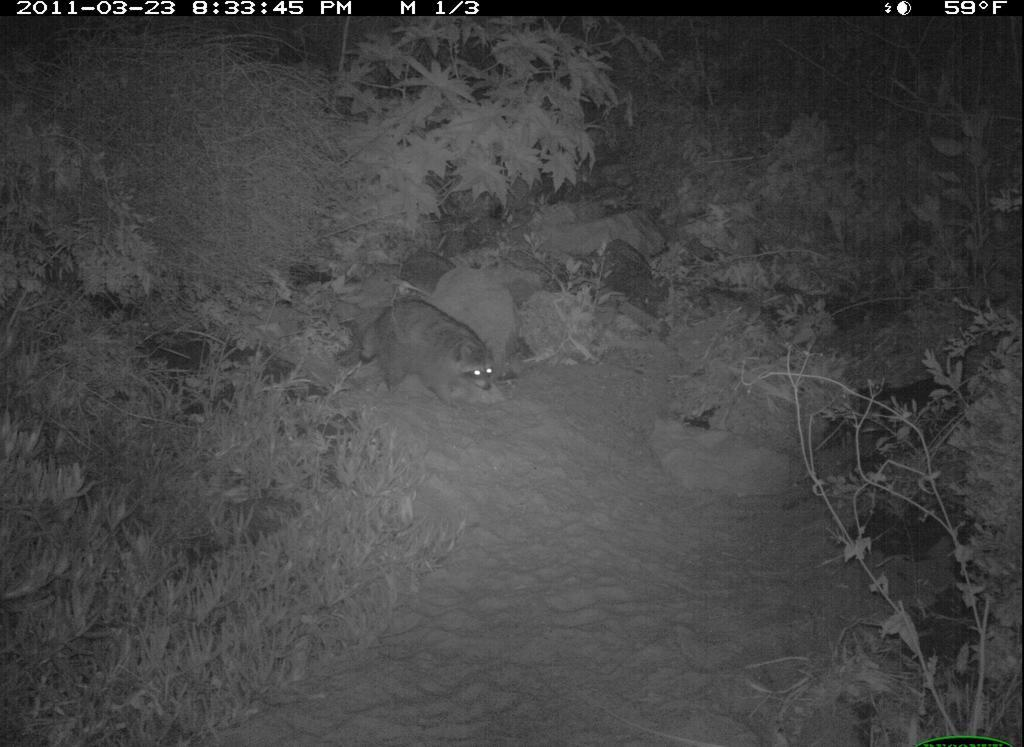raccoon: (356, 296, 504, 408)
